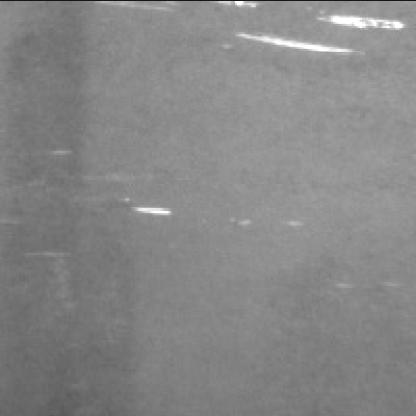scratches: (226, 9, 408, 58), (117, 189, 176, 223)
